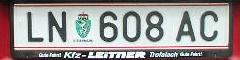0: (123, 10, 141, 42)
6: (99, 11, 118, 42)
8: (145, 10, 164, 43)
A: (176, 11, 196, 43)
C: (200, 11, 218, 41)
L: (27, 12, 44, 43)
N: (47, 12, 67, 43)
